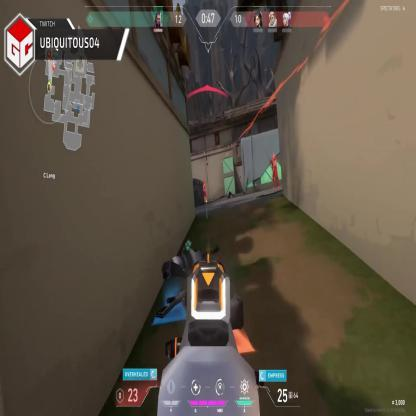enemy: (270, 154, 280, 190), (202, 180, 207, 202)
enemy_head: (272, 154, 276, 160), (202, 180, 205, 184)
